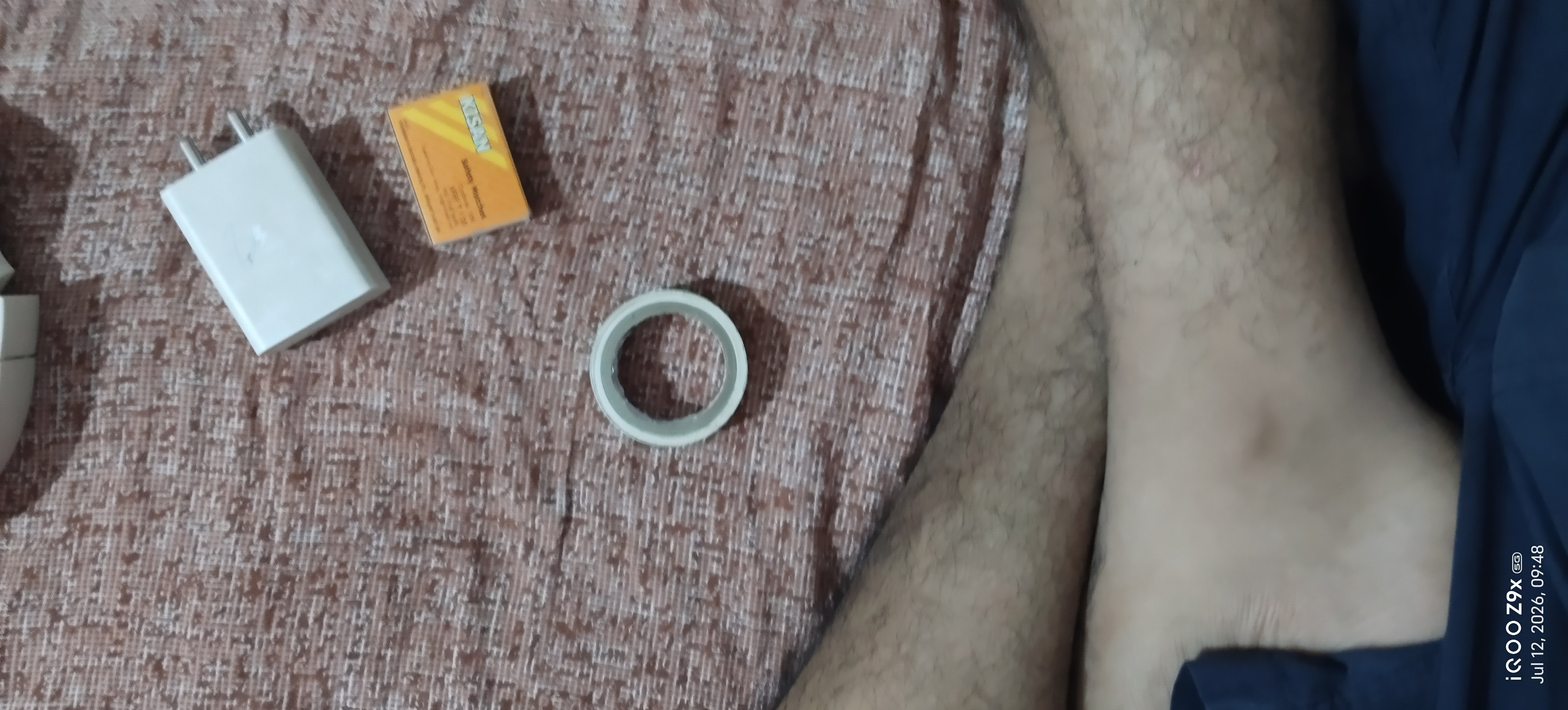charger: (144, 76, 412, 374)
matchbox: (377, 66, 554, 260)
tape_roll: (578, 268, 772, 474)
